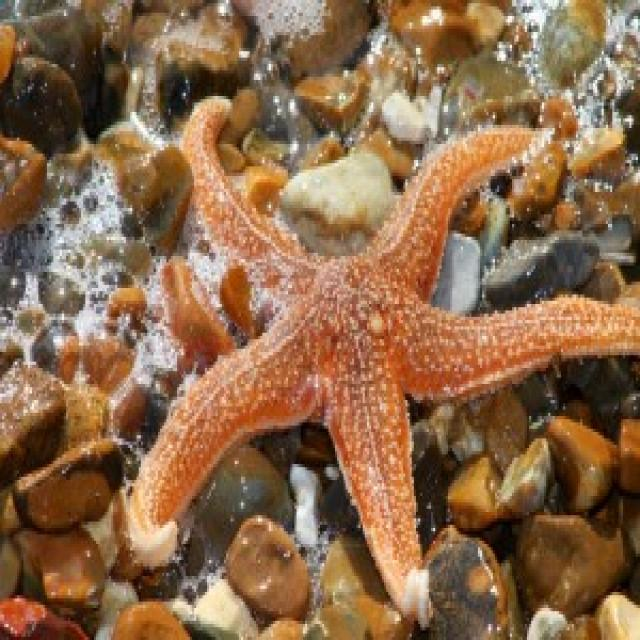Starfish: (123, 65, 640, 633)
